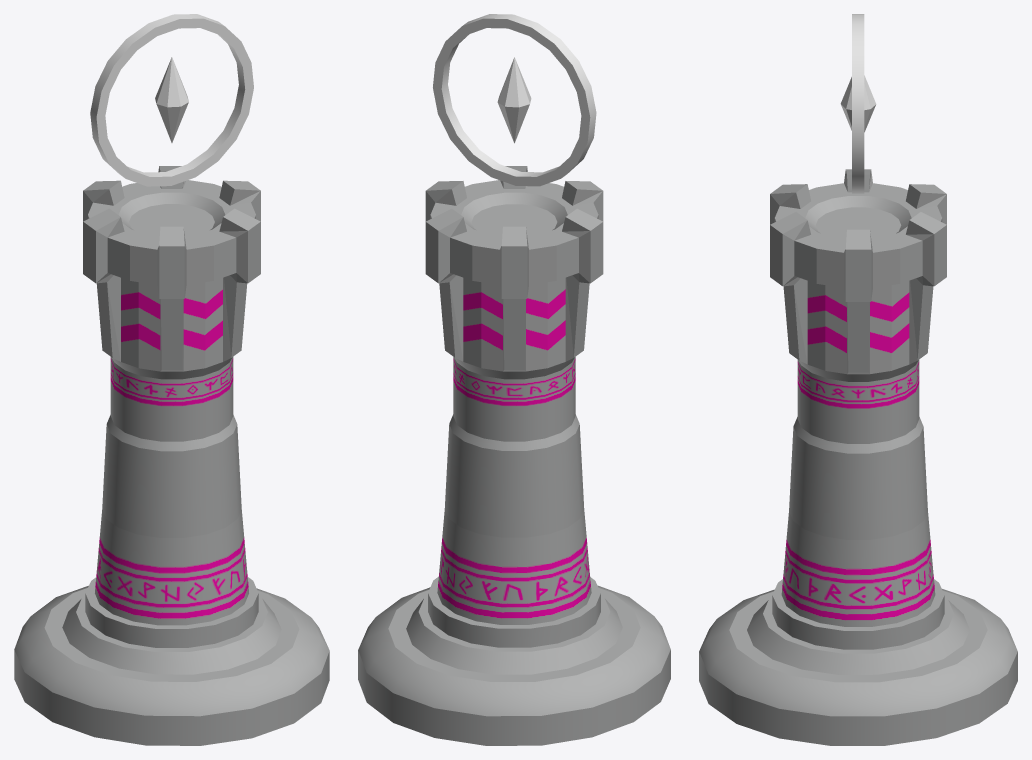
The model's file is Turret.fbx.
The picture shows the model from 3 angles, left to right: view 1: azimuth 30°, elevation 25°; view 2: azimuth 150°, elevation 25°; view 3: azimuth 270°, elevation 25°; orthographic projection.
Parts seen in each view (by area): view 1: Cylinder001, Tube001, Hedra002; view 2: Cylinder001, Tube001, Hedra002; view 3: Cylinder001, Tube001, Hedra002.
Part boxes in pixels (x1=…): Cylinder001: x1=14, y1=166, x2=329, y2=745; Tube001: x1=90, y1=14, x2=253, y2=186; Hedra002: x1=155, y1=57, x2=188, y2=142; Cylinder001: x1=358, y1=166, x2=670, y2=745; Tube001: x1=433, y1=14, x2=596, y2=186; Hedra002: x1=497, y1=57, x2=531, y2=143; Cylinder001: x1=699, y1=169, x2=1017, y2=745; Tube001: x1=852, y1=14, x2=864, y2=193; Hedra002: x1=840, y1=75, x2=876, y2=132.
Bounding box in the file's own units: 34.83 × 82.62 × 36.2.
